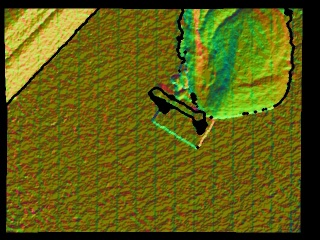station: (148, 87, 215, 151)
